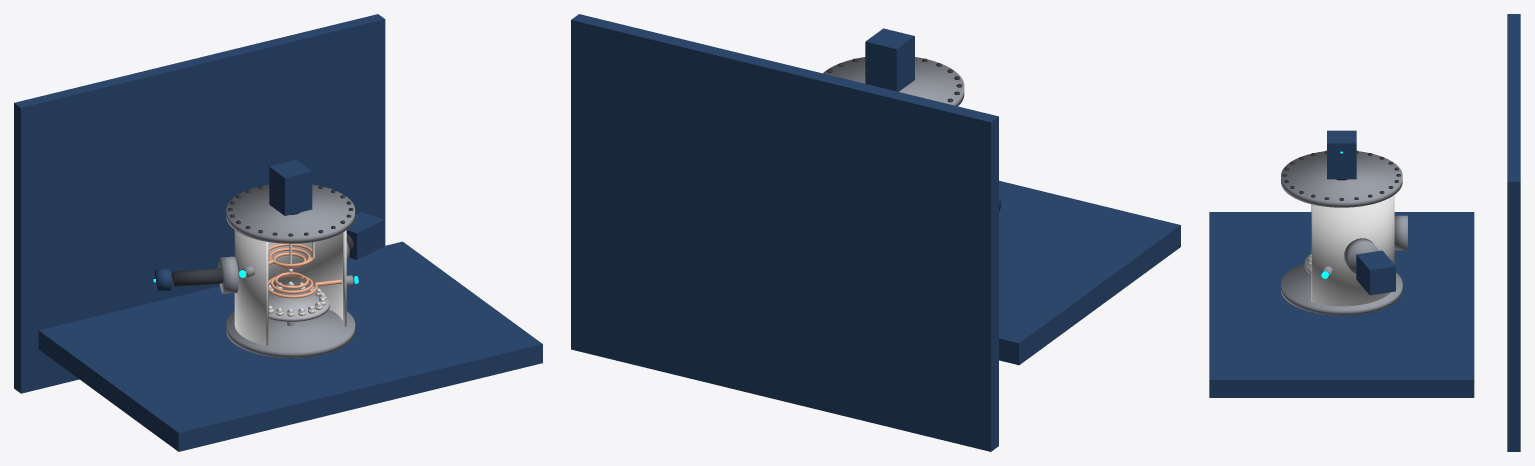
File: eml.glb
3 views of the same model, side by side, from view 1: azimuth 30°, elevation 25°; view 2: azimuth 150°, elevation 25°; view 3: azimuth 270°, elevation 25° (orthographic). The views are drawn at different scales.
Parts seen in each view (by area): view 1: rack_back_panel, rack_base, chamber, chamber_flange_top, chamber_flange_bottom, cam_body, carousel_disc, camr_body, pyro_tube, coil_lower_spiral, coil_upper_spiral, port_ring.002; view 2: rack_back_panel, rack_base, cam_body, chamber_flange_top; view 3: rack_base, chamber, rack_back_panel, chamber_flange_top, chamber_flange_bottom, camr_body, cam_body, port_ring, port_ring.001.
Part boxes in pixels (x1,y1,x2,y2): rack_back_panel: [14, 14, 385, 393]; rack_base: [38, 241, 542, 451]; chamber: [234, 230, 346, 345]; chamber_flange_top: [226, 184, 355, 243]; chamber_flange_bottom: [226, 309, 355, 357]; cam_body: [269, 160, 312, 215]; carousel_disc: [268, 285, 329, 321]; camr_body: [346, 212, 383, 259]; pyro_tube: [172, 268, 222, 286]; coil_lower_spiral: [268, 272, 317, 298]; coil_upper_spiral: [268, 243, 315, 268]; port_ring.002: [218, 256, 238, 293]; rack_back_panel: [571, 14, 998, 451]; rack_base: [999, 180, 1180, 365]; cam_body: [865, 28, 914, 91]; chamber_flange_top: [823, 57, 964, 106]; rack_base: [1209, 212, 1474, 397]; chamber: [1311, 195, 1394, 306]; rack_back_panel: [1507, 14, 1520, 451]; chamber_flange_top: [1281, 151, 1402, 207]; chamber_flange_bottom: [1281, 263, 1402, 315]; camr_body: [1356, 250, 1395, 295]; cam_body: [1327, 130, 1356, 179]; port_ring: [1343, 238, 1378, 273]; port_ring.001: [1394, 215, 1407, 250].
Size of the model in its own units: 60 by 45 by 47.
